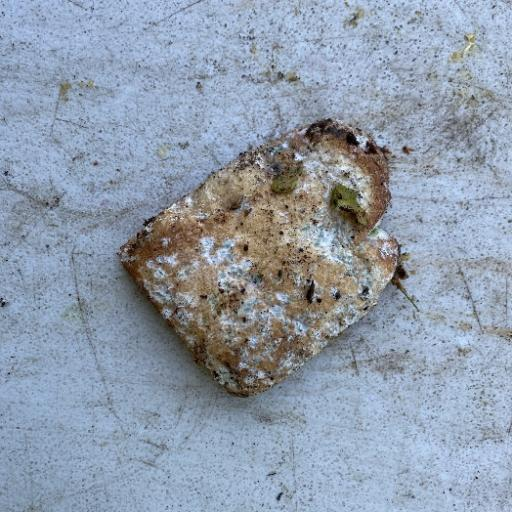Waste: (116, 116, 403, 399)
